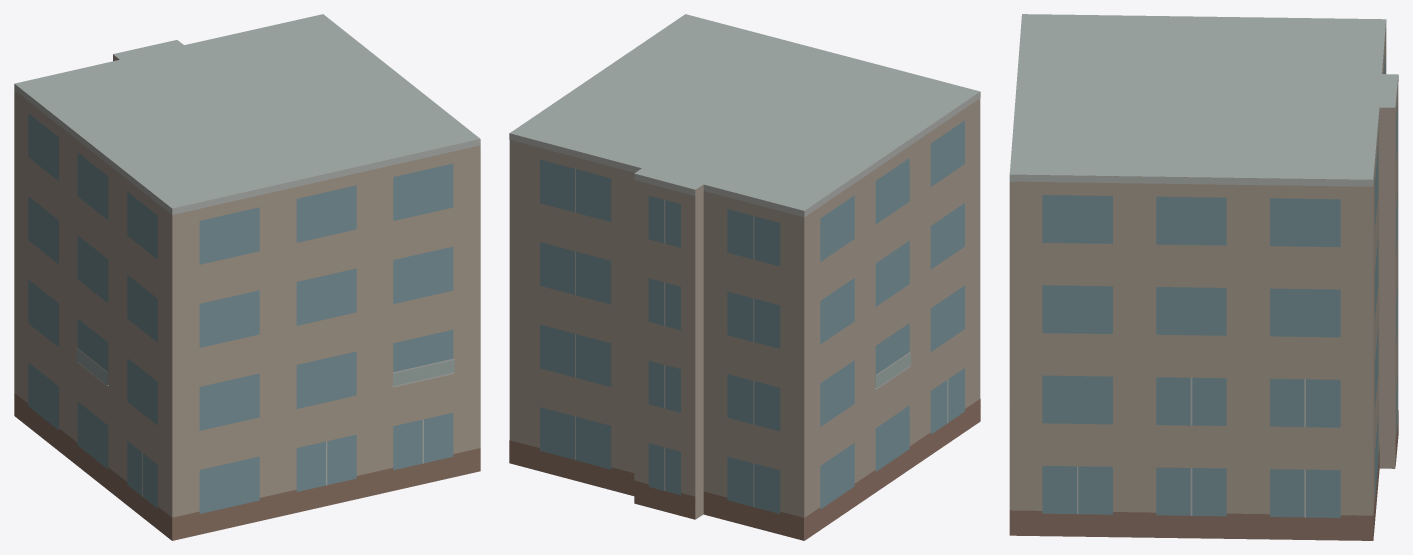
The model's file is survey-upis-32663661.glb.
3 views of the same model, side by side, from view 1: azimuth 30°, elevation 25°; view 2: azimuth 150°, elevation 25°; view 3: azimuth 270°, elevation 25° (orthographic). The views are drawn at different scales.
Visible parts, largest first — view 1: survey-upis-32663661.tmp; view 2: survey-upis-32663661.tmp; view 3: survey-upis-32663661.tmp.
Boxes of the visible parts, left/top/right/bottom form: survey-upis-32663661.tmp: left=14, top=14, right=480, bottom=540; survey-upis-32663661.tmp: left=509, top=14, right=980, bottom=540; survey-upis-32663661.tmp: left=1009, top=14, right=1398, bottom=540.
Size of the model in its own units: 12.4 by 12.58 by 12.28.
